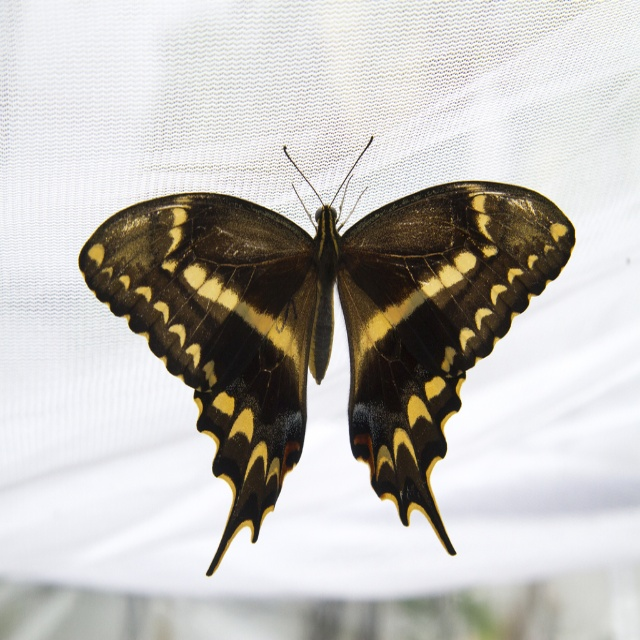Butterfly: (98, 101, 546, 575)
